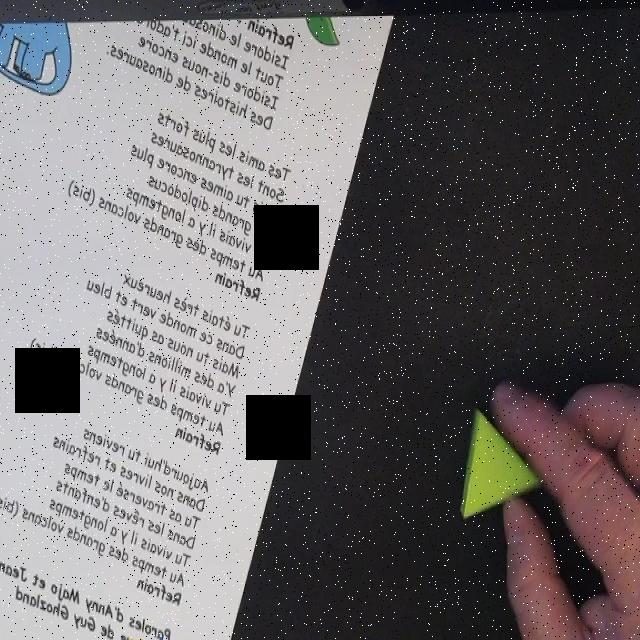triangle: (460, 410, 541, 521)
